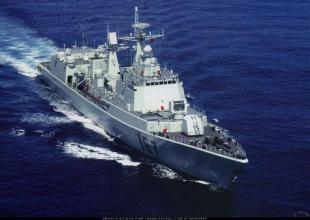warship: (37, 1, 251, 192)
